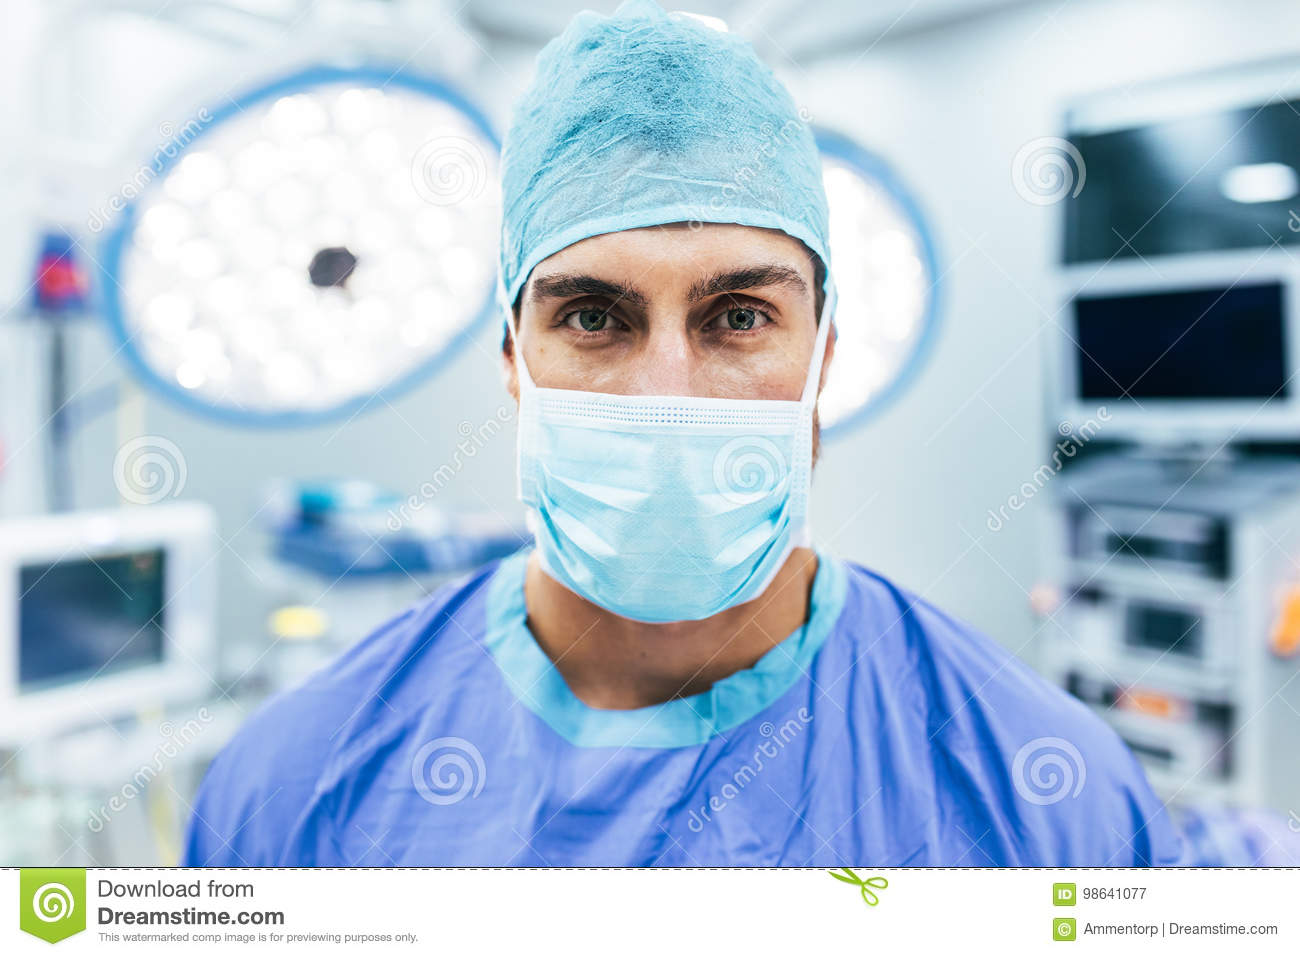mask: (500, 380, 807, 633)
